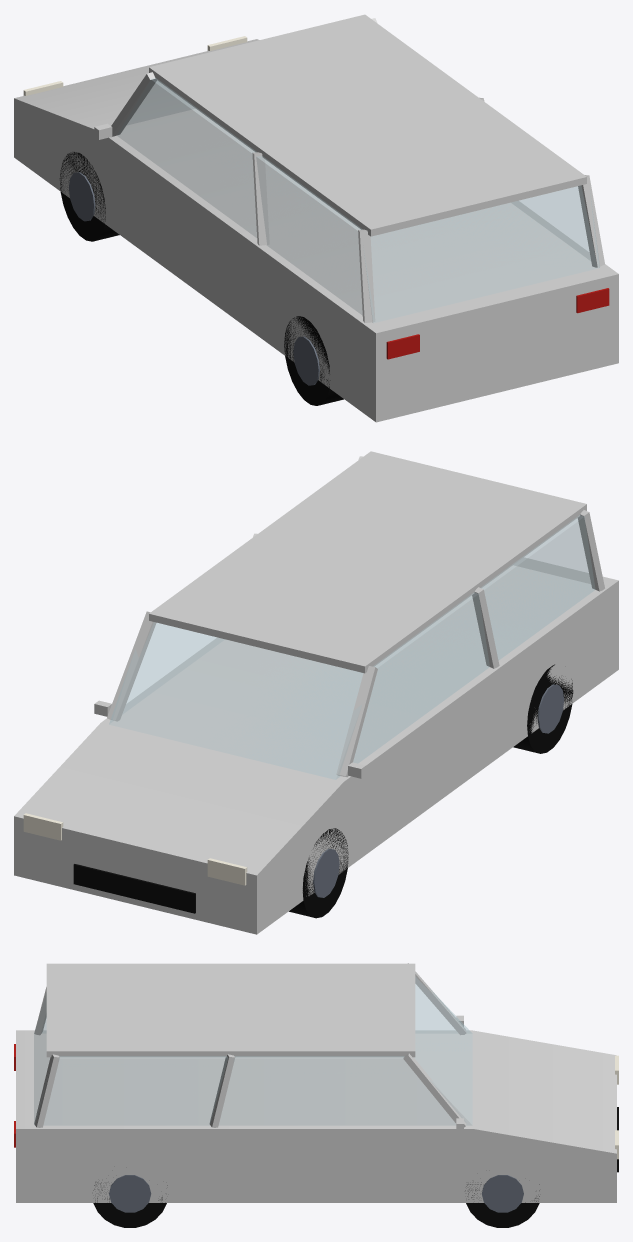
The model's file is vehicle.car.estate_white.glb.
The picture shows the model from 3 angles, top to bottom: view 1: azimuth 30°, elevation 25°; view 2: azimuth 150°, elevation 25°; view 3: azimuth 270°, elevation 25°; orthographic projection. The views are drawn at different scales.
Parts seen in each view (by area): view 1: main__car_white, main__glass, main__rubber, main__steel_painted, main__hazard_red, main__light_emitter; view 2: main__car_white, main__glass, main__rubber, main__plastic_black, main__steel_painted, main__light_emitter; view 3: main__car_white, main__glass, main__steel_painted, main__rubber.
Part boxes in pixels (x1,y1,x2,y2): main__car_white: [14, 14, 618, 422]; main__glass: [117, 78, 599, 322]; main__rubber: [59, 152, 343, 405]; main__steel_painted: [68, 172, 319, 385]; main__hazard_red: [386, 288, 609, 359]; main__light_emitter: [23, 36, 247, 95]; main__car_white: [14, 451, 618, 934]; main__glass: [109, 515, 595, 779]; main__rubber: [289, 664, 573, 918]; main__plastic_black: [73, 864, 195, 913]; main__steel_painted: [313, 684, 564, 897]; main__light_emitter: [23, 813, 247, 885]; main__car_white: [16, 963, 616, 1202]; main__glass: [34, 977, 472, 1125]; main__steel_painted: [109, 1175, 523, 1212]; main__rubber: [93, 1182, 539, 1227].
Bounding box in the file's own units: 2 × 1.48 × 4.73.
